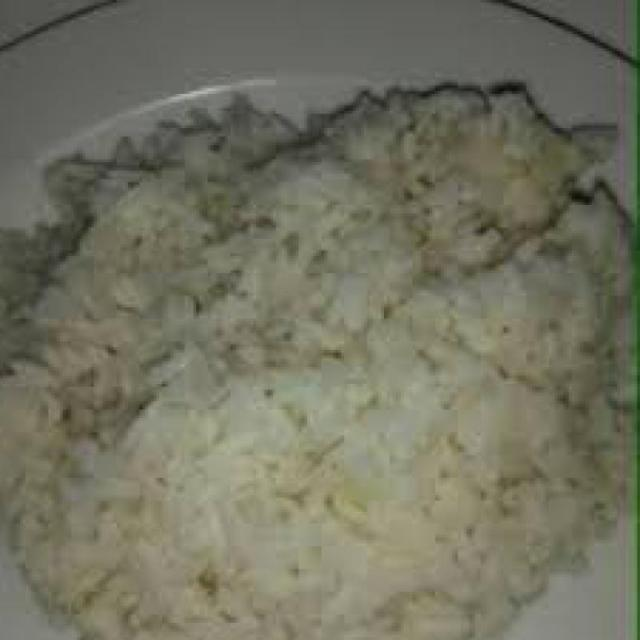nasi_putih: (0, 73, 638, 640)
